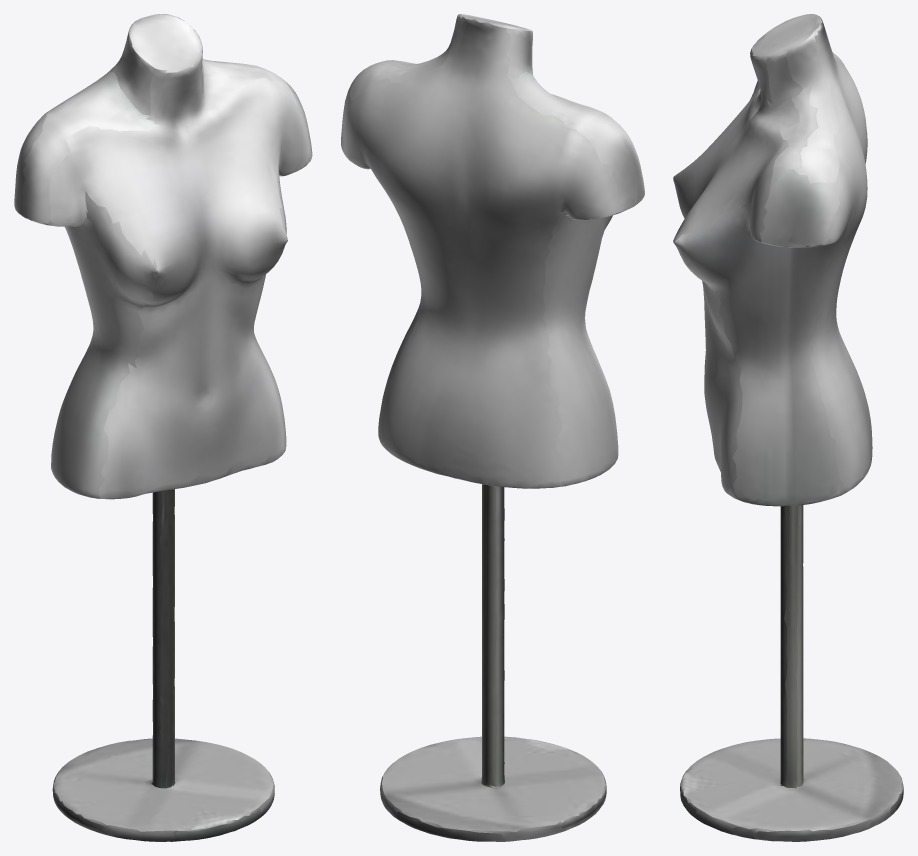
The model's file is mannequin.glb.
3 views of the same model, side by side, from view 1: azimuth 30°, elevation 25°; view 2: azimuth 150°, elevation 25°; view 3: azimuth 270°, elevation 25° (orthographic). The views are drawn at different scales.
Parts seen in each view (by area): view 1: geometry_0; view 2: geometry_0; view 3: geometry_0.
Boxes of the visible parts, x1,y1,x2,y2 form: geometry_0: [14, 14, 312, 841]; geometry_0: [341, 14, 644, 841]; geometry_0: [673, 14, 903, 841].
Size of the model in its own units: 0.6588 by 1.7 by 0.4591.
Materials: 1 (1 with a texture image).
